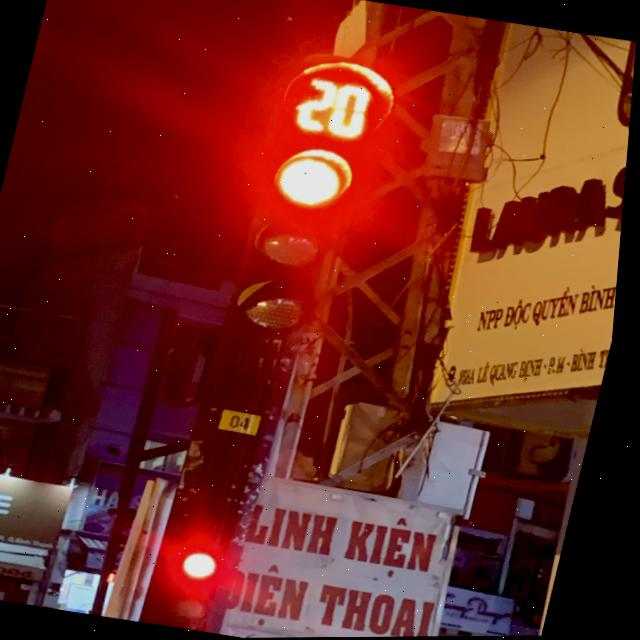Red: (228, 133, 355, 347), (156, 535, 254, 635)
